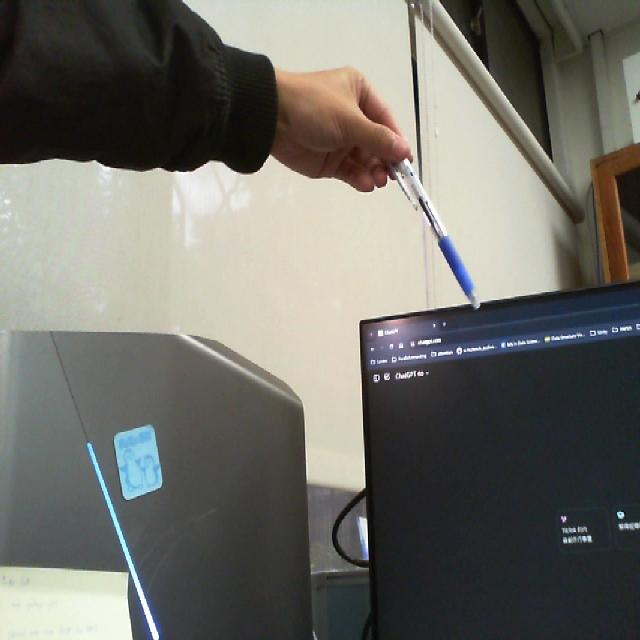Pen: (374, 111, 504, 325)
